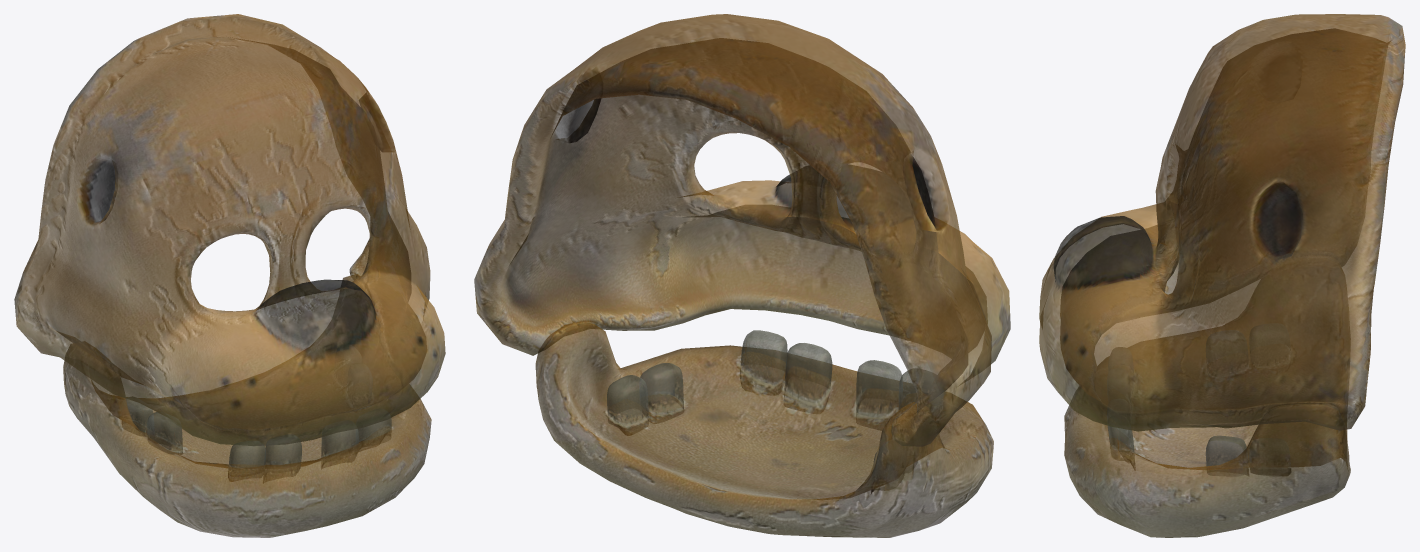
The model's file is freddy_head.glb.
The picture shows the model from 3 angles, left to right: view 1: azimuth 30°, elevation 25°; view 2: azimuth 150°, elevation 25°; view 3: azimuth 270°, elevation 25°; orthographic projection. The views are drawn at different scales.
Visible parts, largest first — view 1: Mask_Geo_Freddy_Mask_0; view 2: Mask_Geo_Freddy_Mask_0; view 3: Mask_Geo_Freddy_Mask_0.
Part boxes in pixels (x1,y1,x2,y2): Mask_Geo_Freddy_Mask_0: [14, 14, 445, 537]; Mask_Geo_Freddy_Mask_0: [474, 14, 1010, 537]; Mask_Geo_Freddy_Mask_0: [1039, 14, 1405, 537].
Bounding box in the file's own units: 0.2366 × 0.2543 × 0.1799.
1 material, 1 textured.
